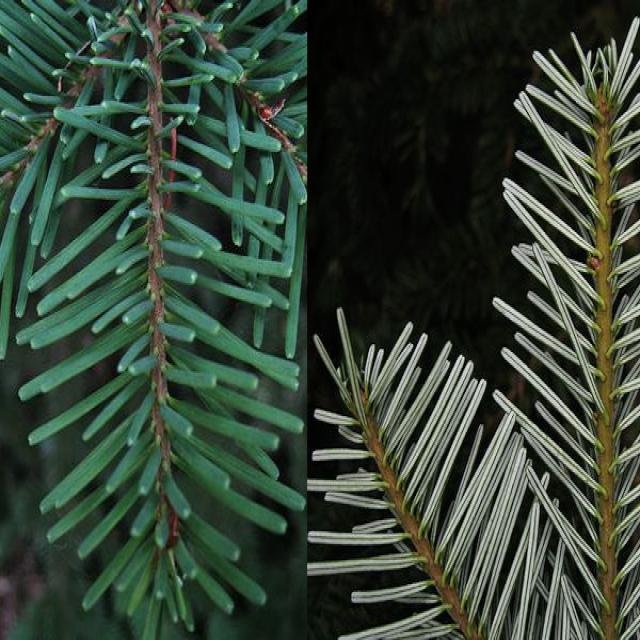Abies: (308, 15, 640, 640), (0, 0, 309, 640)
